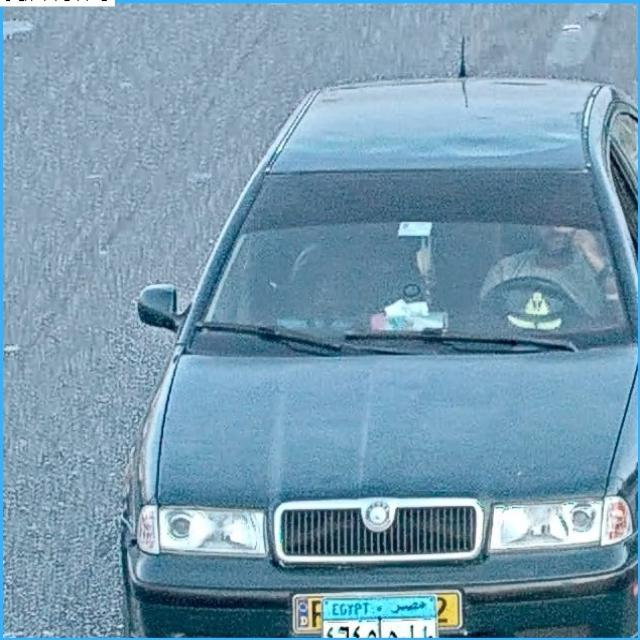windshield: (194, 168, 621, 341)
